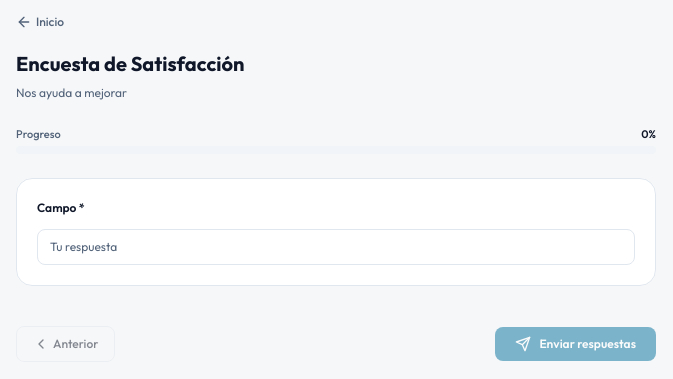
it: SurveyPublicRenderer — flujo y envío › submit exitoso en encuesta con mensaje por defecto del backend
The image size is (673, 379).
Expected: the heading "Encuesta de Satisfacción" is shown, [16,50,244,76]
Type "v" into the field named "Campo". click: (336, 247)
box: [37,229,635,265]
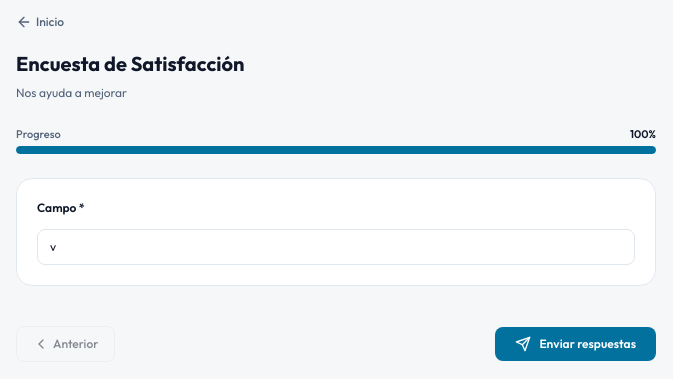
Expected: the button "Enviar respuestas" is enabled
Click the button "Enviar respuestas". click: (576, 344)
box: [495,327,656,361]
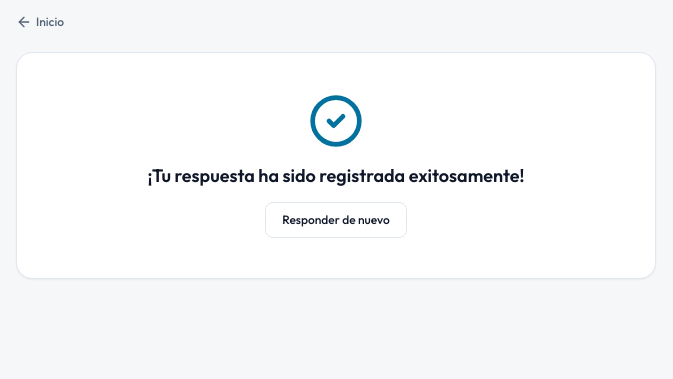
Expected: the heading "¡Tu respuesta ha sido registrada exitosamente!" is shown, [148,164,524,186]
